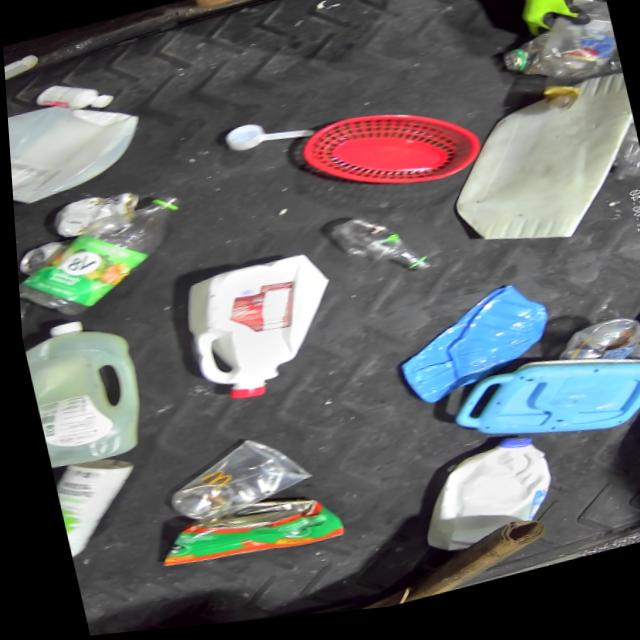can: (158, 492, 344, 587)
milk_jug: (169, 249, 346, 418), (17, 314, 146, 473), (409, 439, 557, 569), (5, 84, 155, 212)
non_white_jug: (621, 382, 640, 507)
plastic_bottle: (12, 196, 197, 322), (523, 11, 624, 121), (329, 211, 435, 297)
